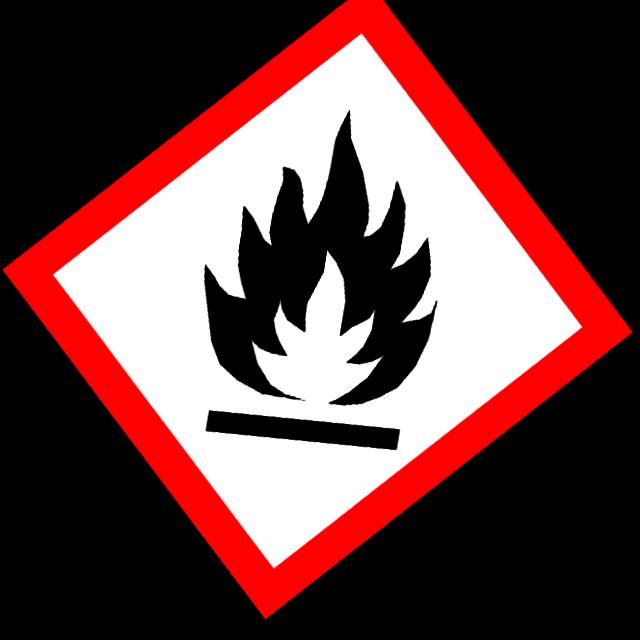flammable: (179, 89, 467, 468)
